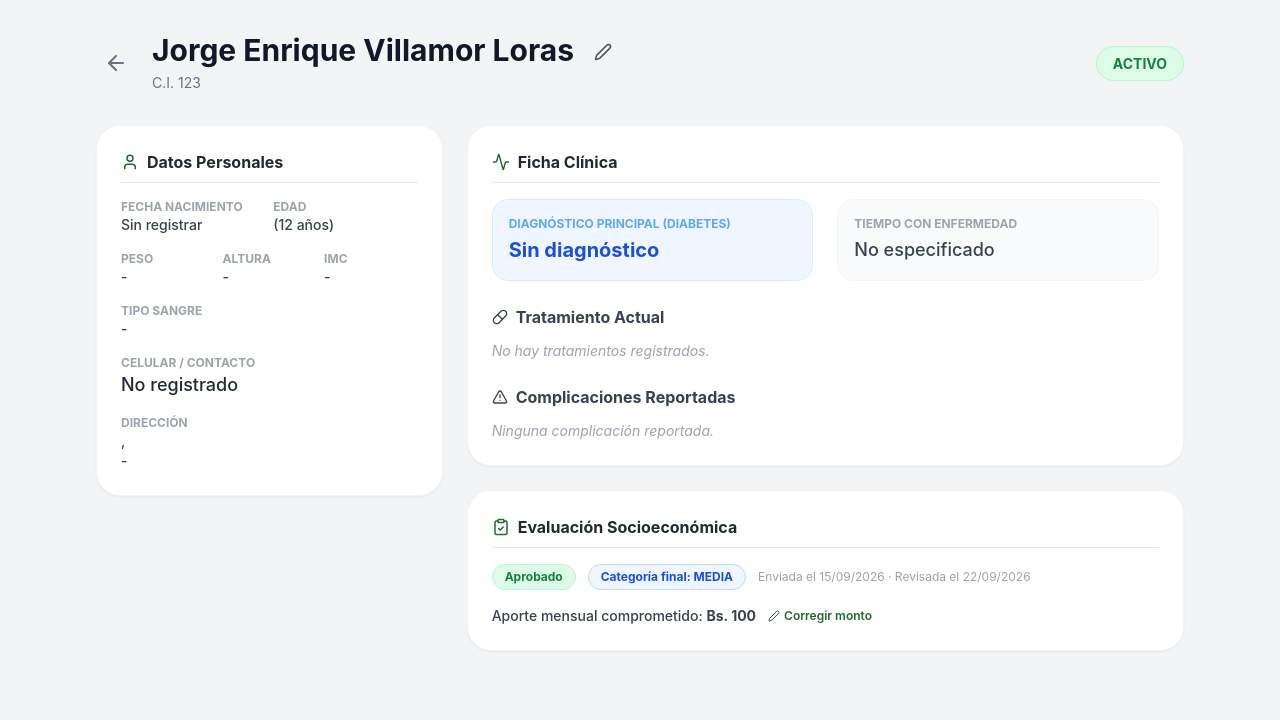
Scenario: Corregir el aporte comprometido › el SUPER_ADMIN corrige el monto indicando el motivo y la ficha muestra el nuevo aporte
Expected: the text "Bs. 100" is shown, top-left (706, 607), bottom-right (756, 624)
Click the button "Corregir monto".
click(820, 616)  # box top-left (768, 608), bottom-right (872, 624)
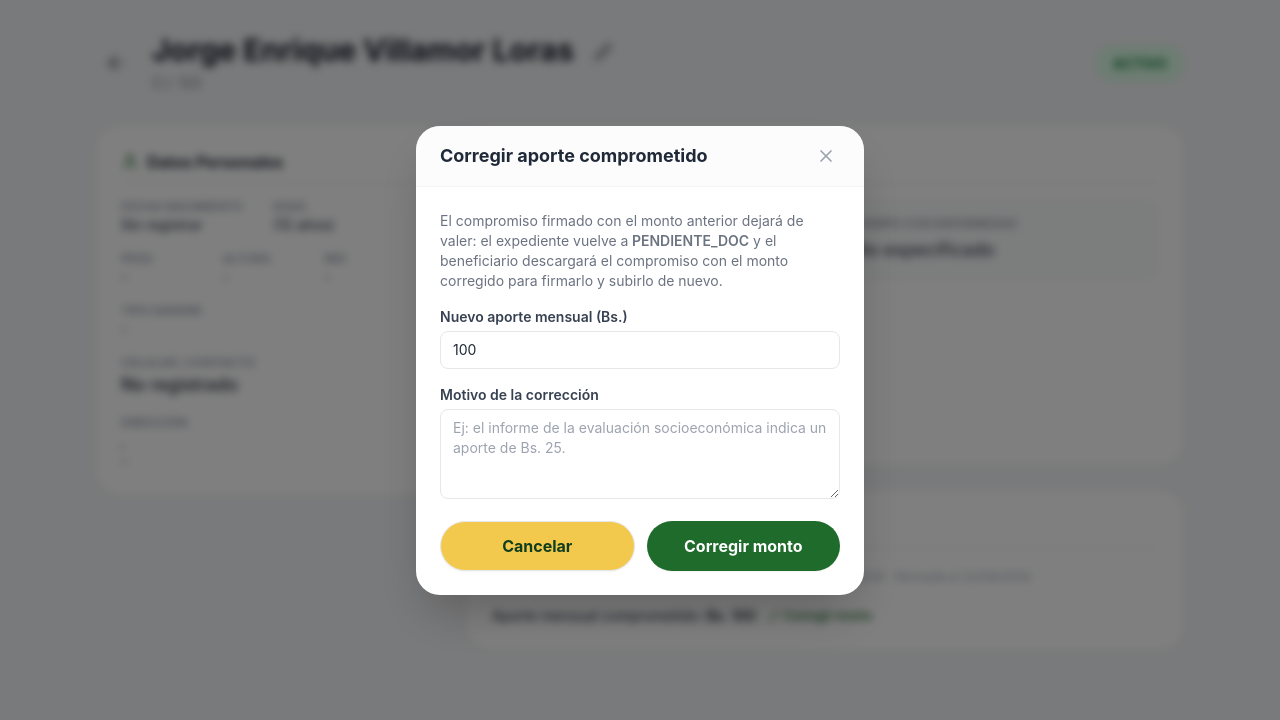
Result: the number field labelled "Nuevo aporte mensual (Bs.)" holds "100"
Replace the text in the number field labelled "Nuevo aporte mensual (Bs.)" with "25" at (640, 350), box top-left (440, 330), bottom-right (840, 368)
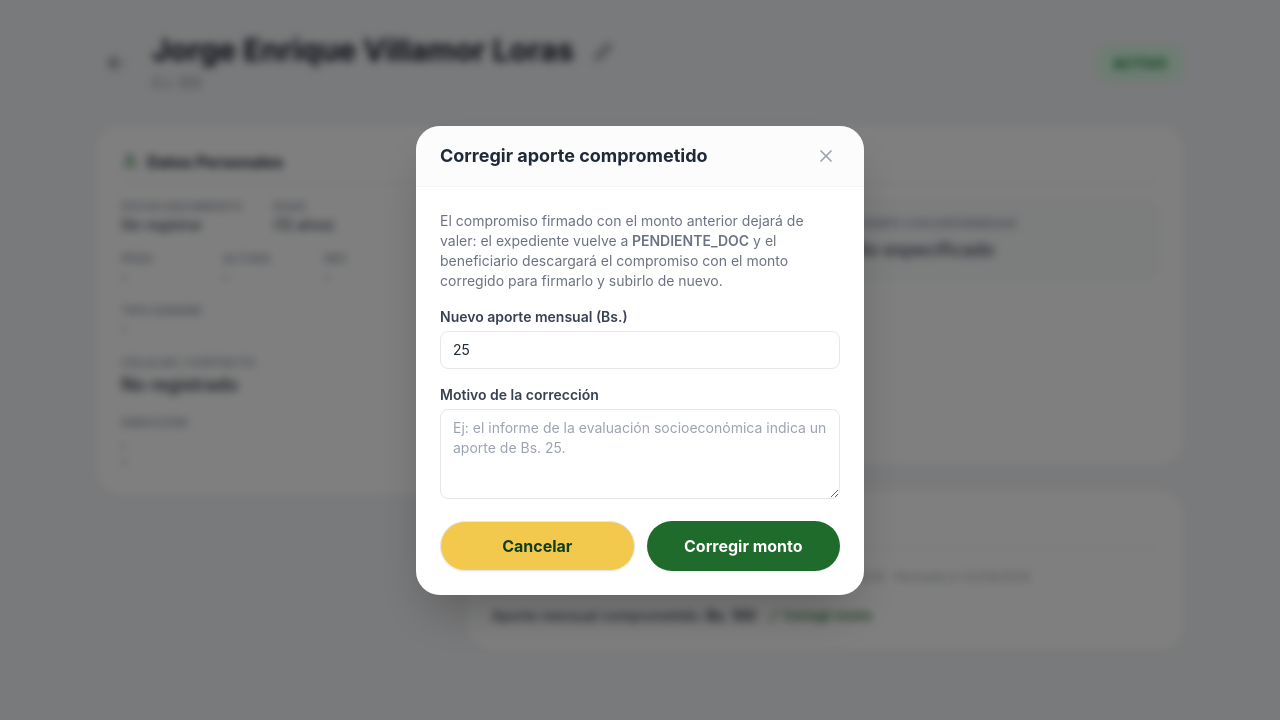
Replace the text in the text box labelled "Motivo de la corrección" with "El informe indica un aporte de Bs. 25." at (640, 454), box top-left (440, 408), bottom-right (840, 498)
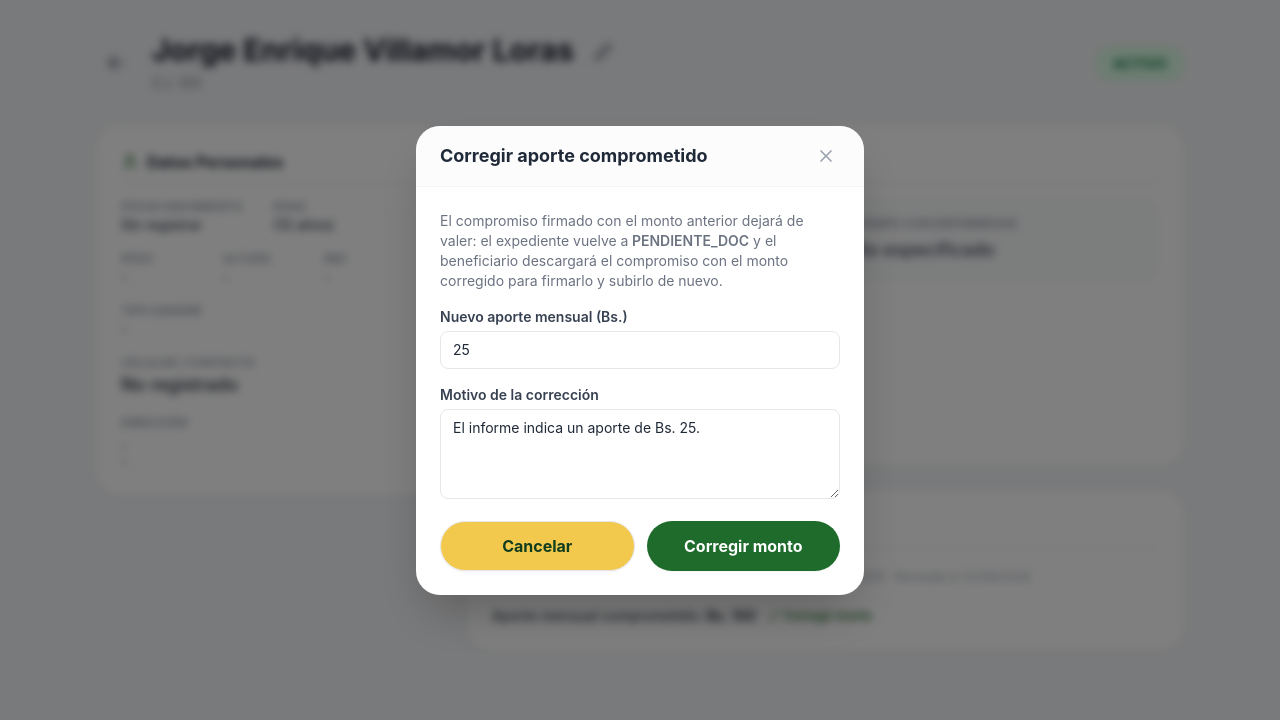
// el botón del modal es el último «Corregir monto»
Click the button "Corregir monto".
click(743, 546)  # box top-left (647, 520), bottom-right (840, 570)
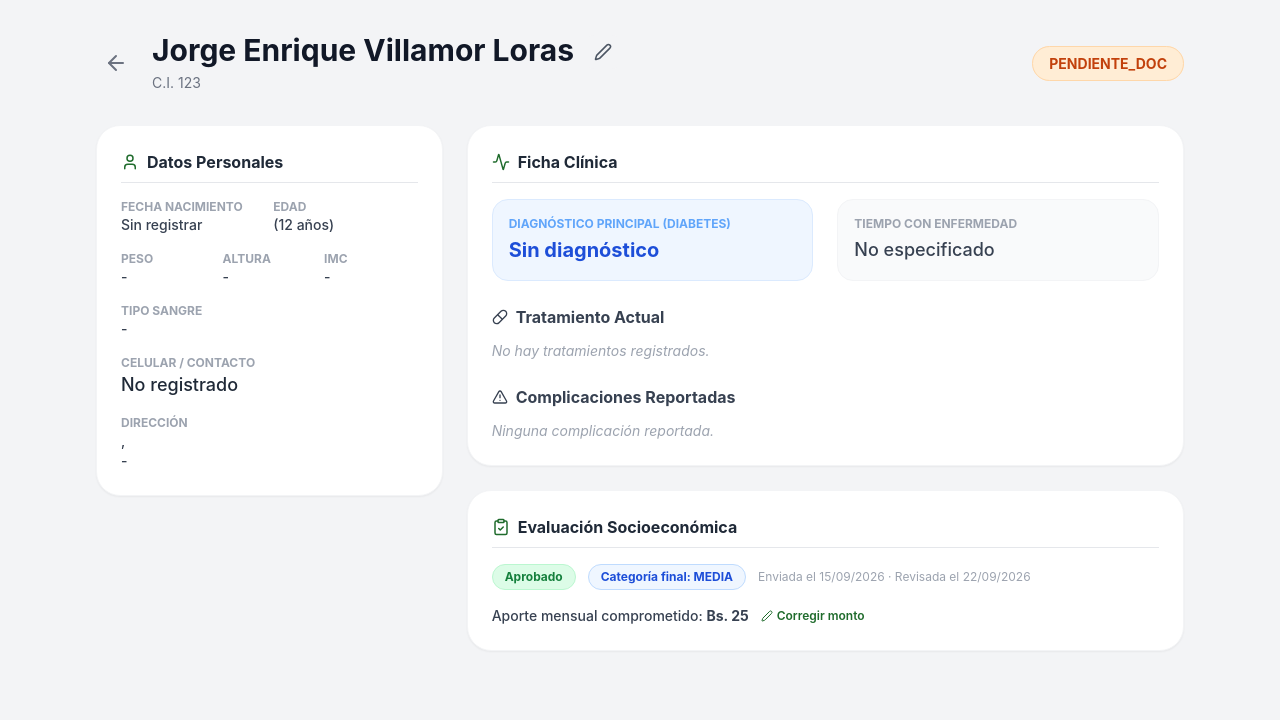
Result: the text "Bs. 25" is shown at top-left (706, 607), bottom-right (749, 624)
